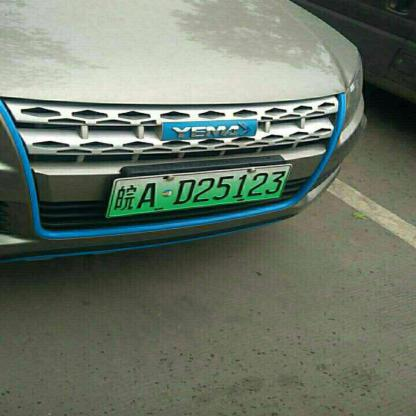lp: (109, 166, 292, 218)
